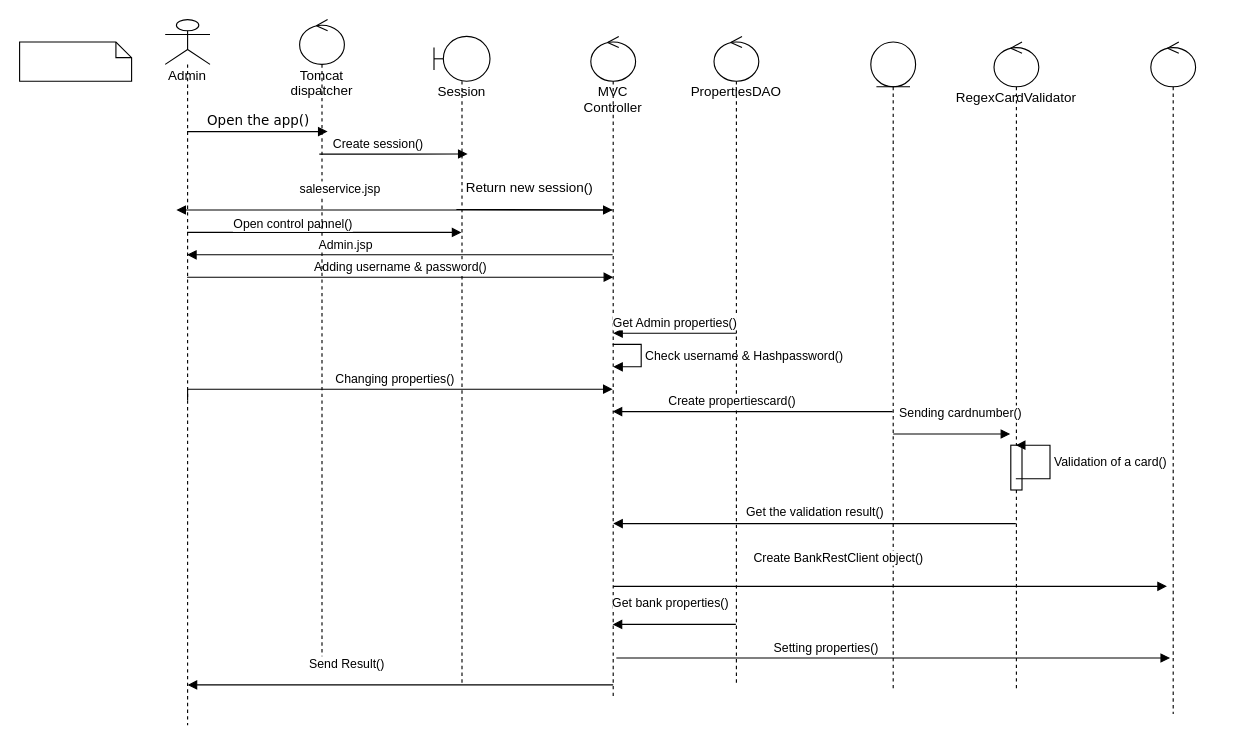
The diagram is 1251 pixels wide and 745 high, and some of its shapes have lost their labels. Each missing label, with the box of its shape:
BankRestClientImpl: (1150, 41, 1196, 714)
CreditCard: (870, 41, 916, 692)
Property Controller: (18, 41, 132, 81)
